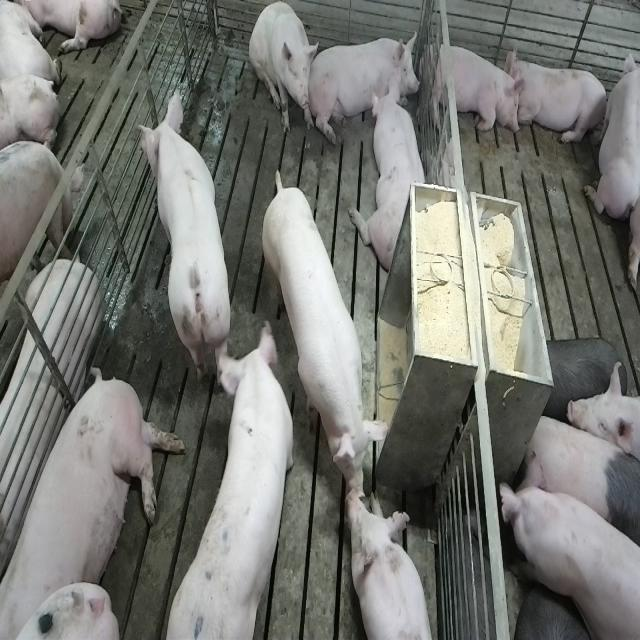Lateral_lying: (4, 363, 188, 636), (0, 259, 102, 579)
Sitting: (250, 3, 319, 138)
Standing: (160, 314, 298, 635), (261, 174, 387, 488), (137, 93, 234, 393), (498, 469, 638, 640), (0, 142, 84, 362), (520, 411, 638, 561)
Sternal_lying: (356, 84, 430, 274), (346, 490, 434, 640), (312, 29, 420, 136), (425, 38, 525, 138), (509, 52, 610, 150), (583, 41, 637, 224)
